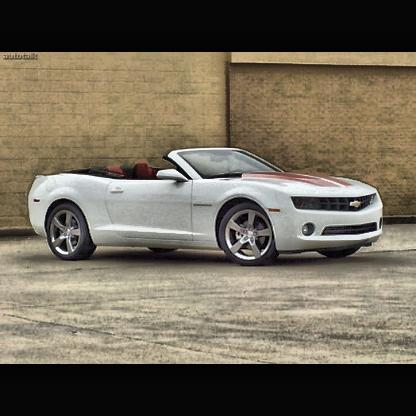Chevrolet Camaro Convertible 2012: (29, 150, 386, 269)
